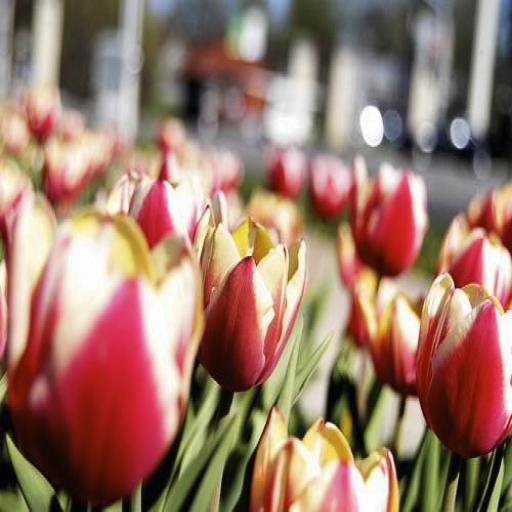tulip: (203, 214, 305, 398), (418, 274, 512, 462), (254, 407, 401, 512), (348, 148, 428, 279), (437, 208, 512, 310), (375, 287, 426, 399)
